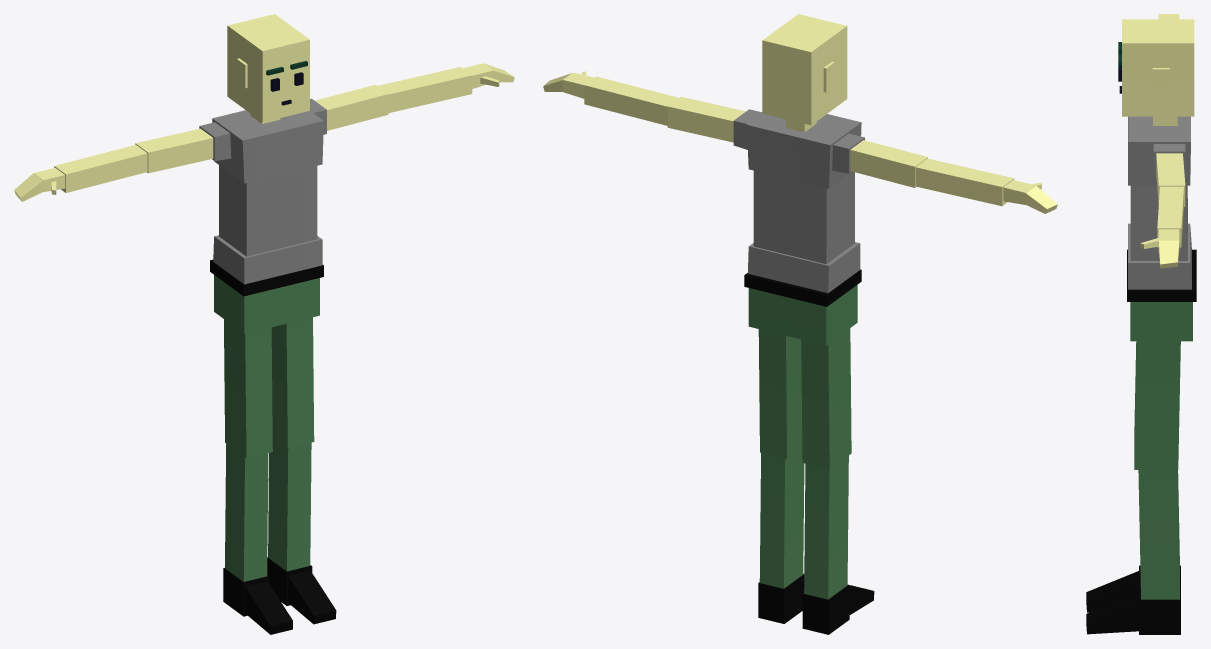
The model's file is cubic-character.glb.
3 renders of one model, left to right at view 1: azimuth 30°, elevation 25°; view 2: azimuth 150°, elevation 25°; view 3: azimuth 270°, elevation 25°, orthographic. The views are drawn at different scales.
Parts seen in each view (by area): view 1: Male_Adult; view 2: Male_Adult; view 3: Male_Adult.
Part boxes in pixels (x1,y1,x2,y2): Male_Adult: (14, 14, 514, 634); Male_Adult: (543, 14, 1057, 634); Male_Adult: (1086, 14, 1196, 634).
Size of the model in its own units: 1.76 by 1.94 by 0.3308.
1 material, 1 textured.
